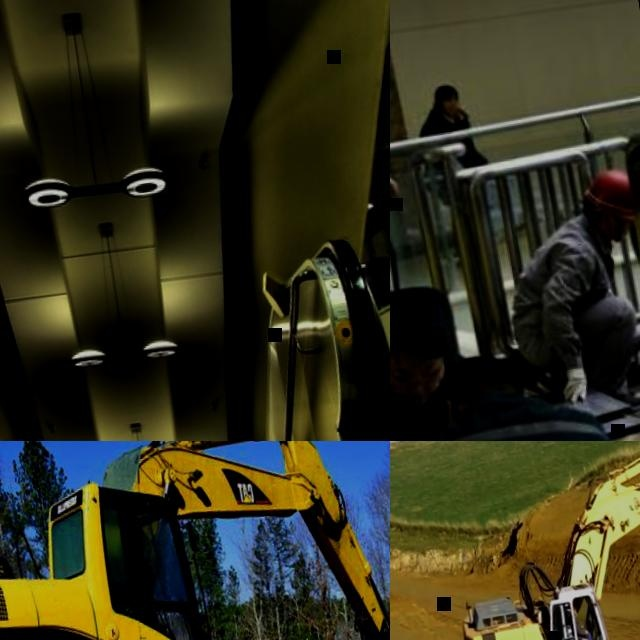Hardhat: (579, 167, 635, 221)
NO-Hardhat: (439, 348, 525, 401), (390, 293, 451, 358), (433, 82, 460, 99), (572, 607, 576, 613)
NO-Mask: (391, 380, 440, 411), (601, 219, 629, 243), (443, 101, 459, 114)
NO-Safety Vest: (407, 383, 640, 441), (504, 226, 611, 331), (390, 361, 454, 441), (421, 112, 475, 163), (569, 616, 583, 639)
Person: (494, 164, 640, 421), (390, 329, 640, 441), (390, 277, 498, 441), (412, 76, 503, 268), (390, 37, 422, 349), (572, 604, 595, 640)
machinery: (0, 441, 390, 640), (432, 441, 640, 640)
